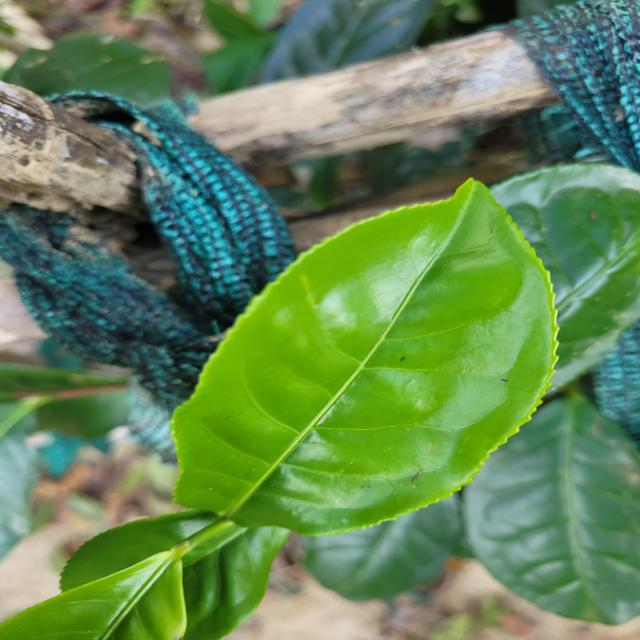Category D(7+ days, Not for Tea): (148, 151, 578, 553)
